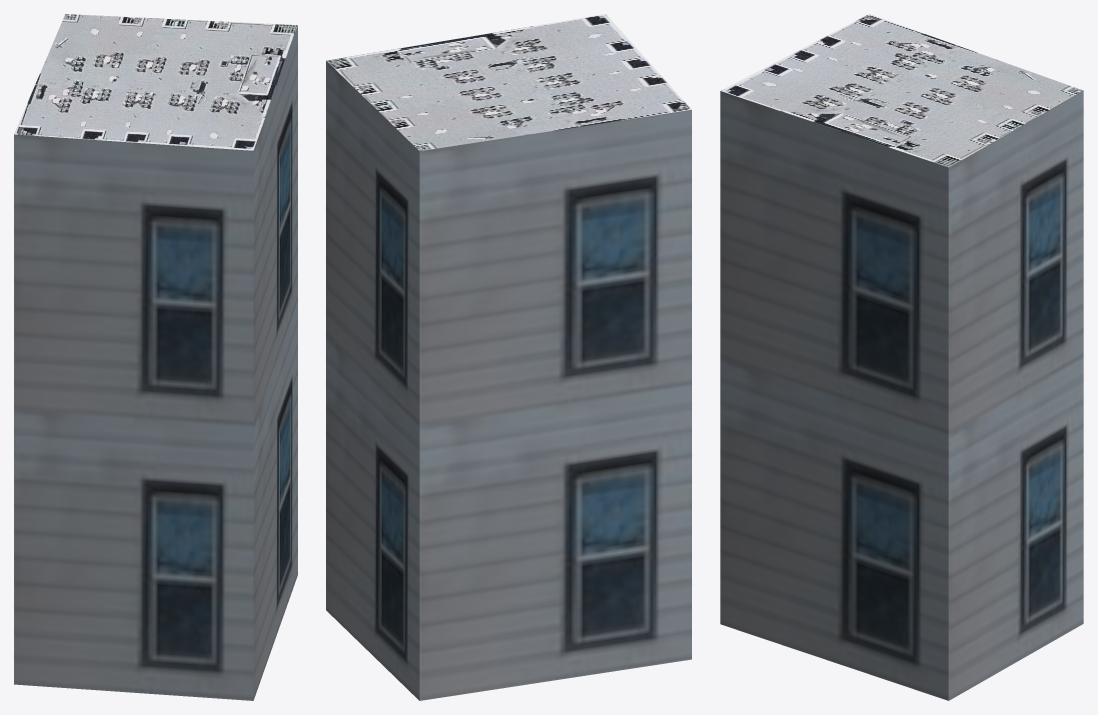
File: ResTex__1229.fbx
The picture shows the model from 3 angles, left to right: view 1: azimuth 30°, elevation 25°; view 2: azimuth 150°, elevation 25°; view 3: azimuth 270°, elevation 25°; orthographic projection. The views are drawn at different scales.
Visible parts, largest first — view 1: CityEngineMaterial_18_m, CityEngineMaterial_2_m; view 2: CityEngineMaterial_18_m, CityEngineMaterial_2_m; view 3: CityEngineMaterial_18_m, CityEngineMaterial_2_m.
Boxes of the visible parts, x1,y1,x2,y2 form: CityEngineMaterial_18_m: (14,25,297,700); CityEngineMaterial_2_m: (14,14,297,150); CityEngineMaterial_18_m: (326,61,691,700); CityEngineMaterial_2_m: (326,14,691,151); CityEngineMaterial_18_m: (720,90,1083,700); CityEngineMaterial_2_m: (721,14,1082,167).
Bounding box in the file's own units: 3.71 × 6 × 3.7.
2 materials, 2 textured.
